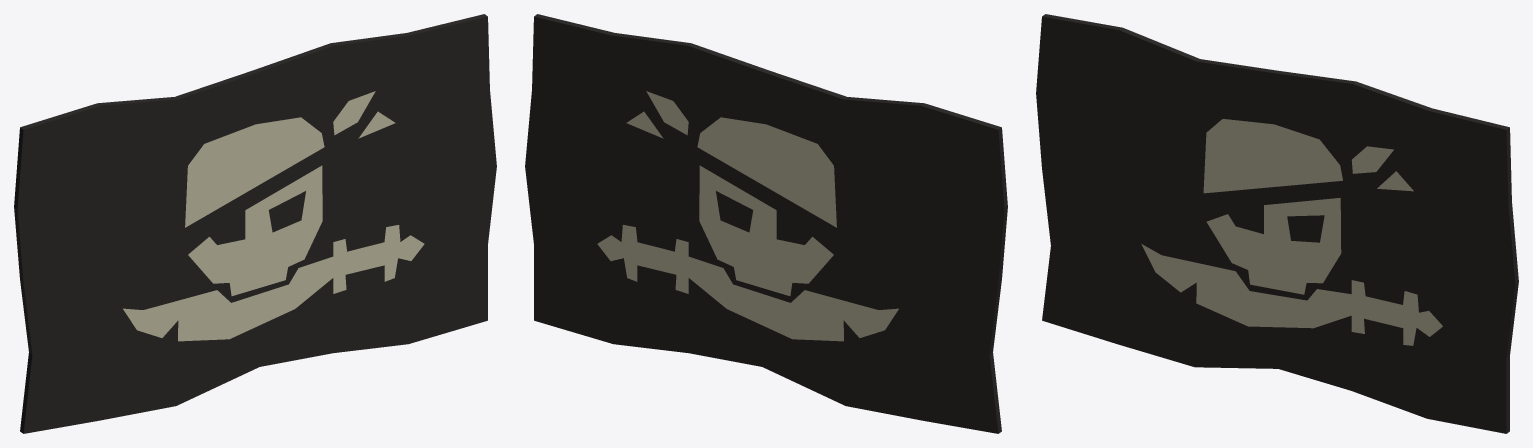
File: Flag_4.fbx
3 views of the same model, side by side, from view 1: azimuth 30°, elevation 25°; view 2: azimuth 150°, elevation 25°; view 3: azimuth 330°, elevation 25° (orthographic).
Visible parts, largest first — view 1: Flag_4; view 2: Flag_4; view 3: Flag_4.
Part boxes in pixels (x1,y1,x2,y2): Flag_4: (14,14,496,433); Flag_4: (525,14,1007,433); Flag_4: (1036,14,1518,433).
Size of the model in its own units: 235 by 151 by 3.
